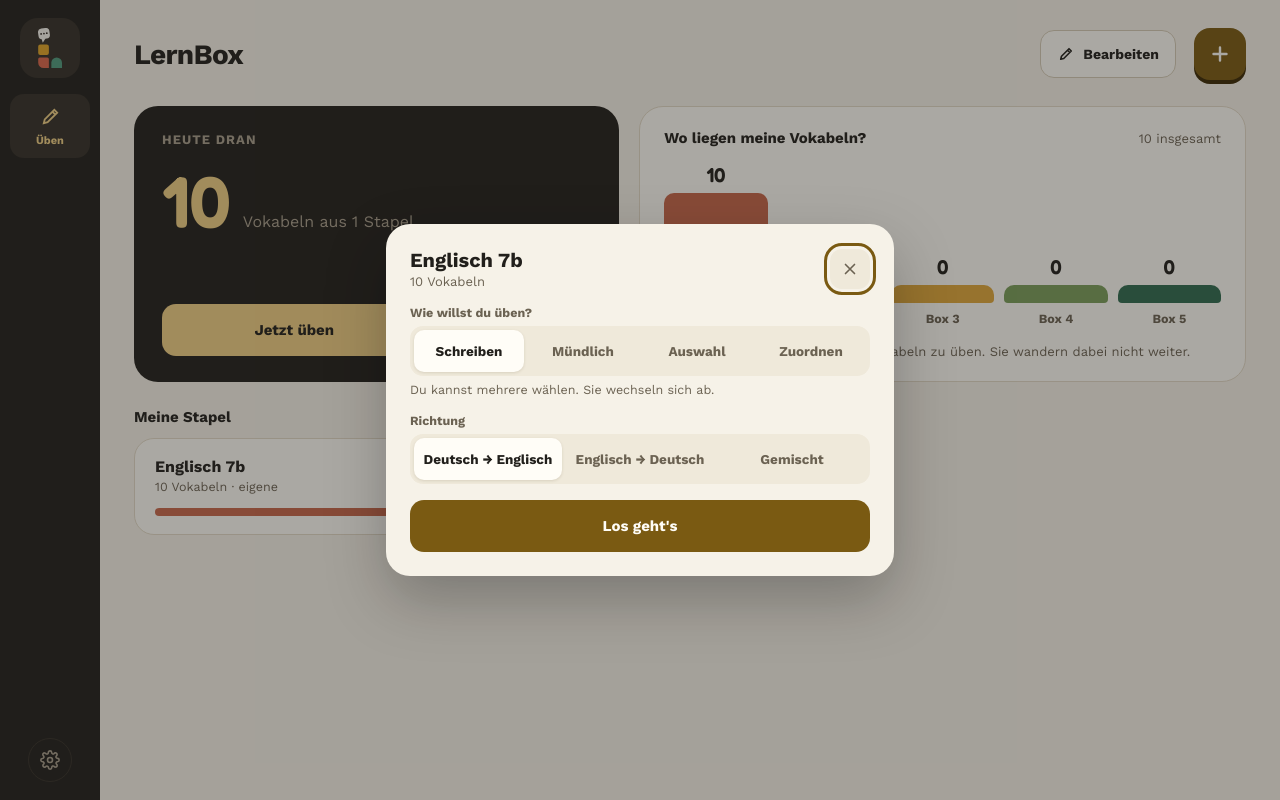
Test case: LernBox: Runde fortsetzen (C-001) › verwirft den Zwischenstand bei „Neu anfangen“
Later steps or results of the test are not shown.
Click the button "Mündlich": [583, 351] box [528,330,638,372]
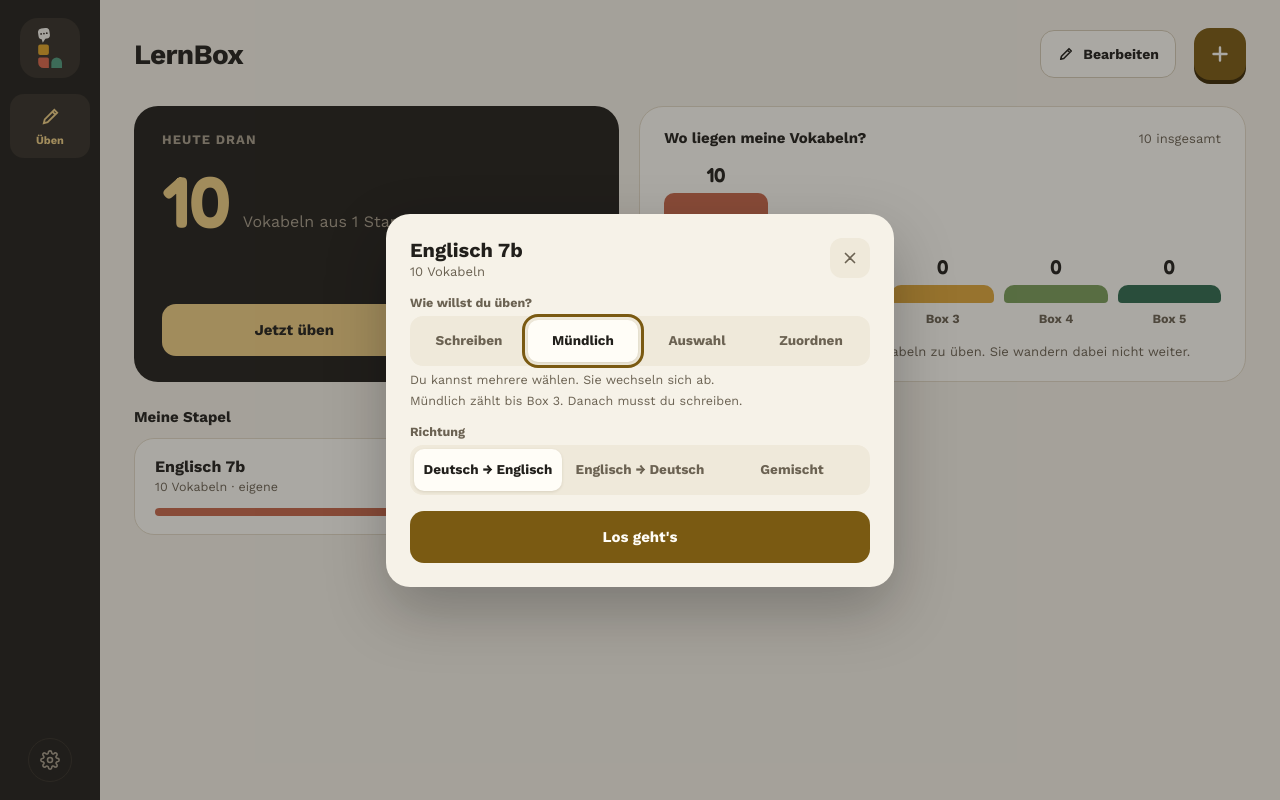
Click the button "Los geht's": [640, 536] box [410,510,870,562]
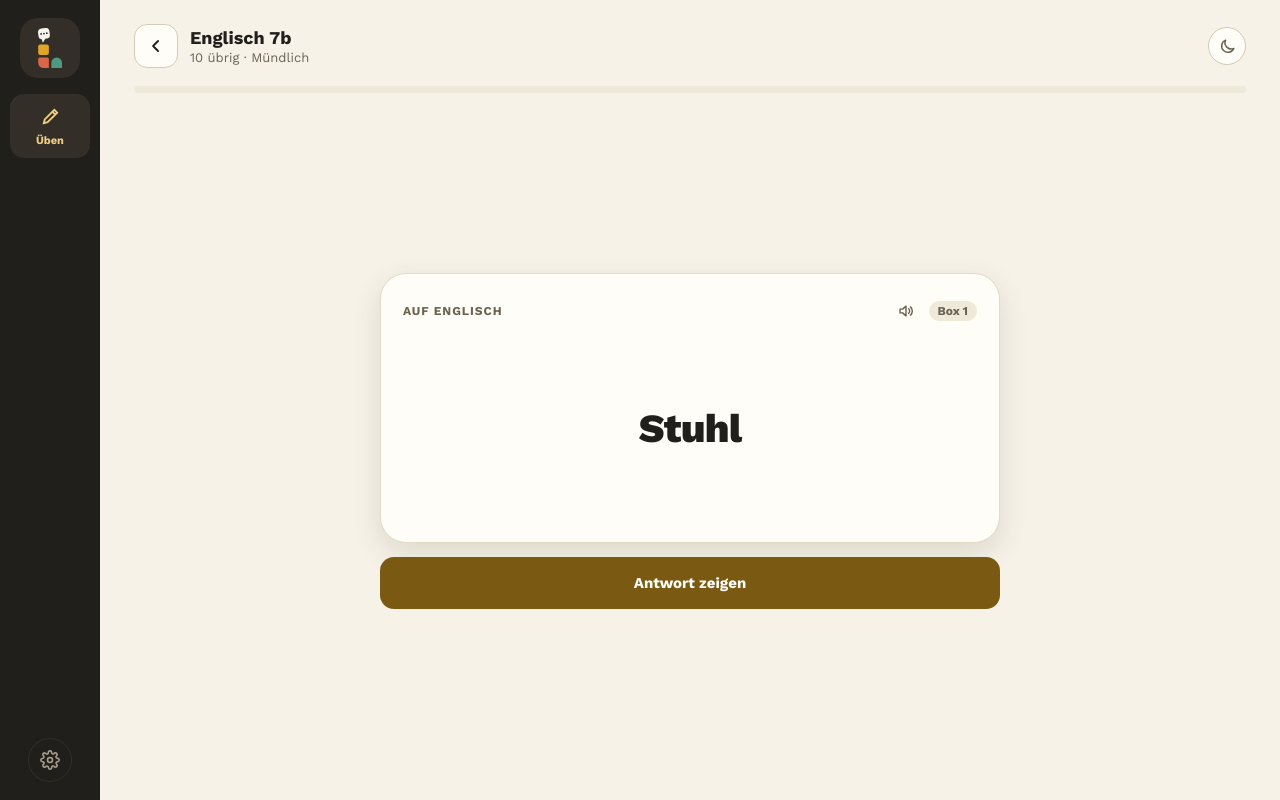
Click the button "Antwort zeigen": [690, 582] box [380,556,1000,608]
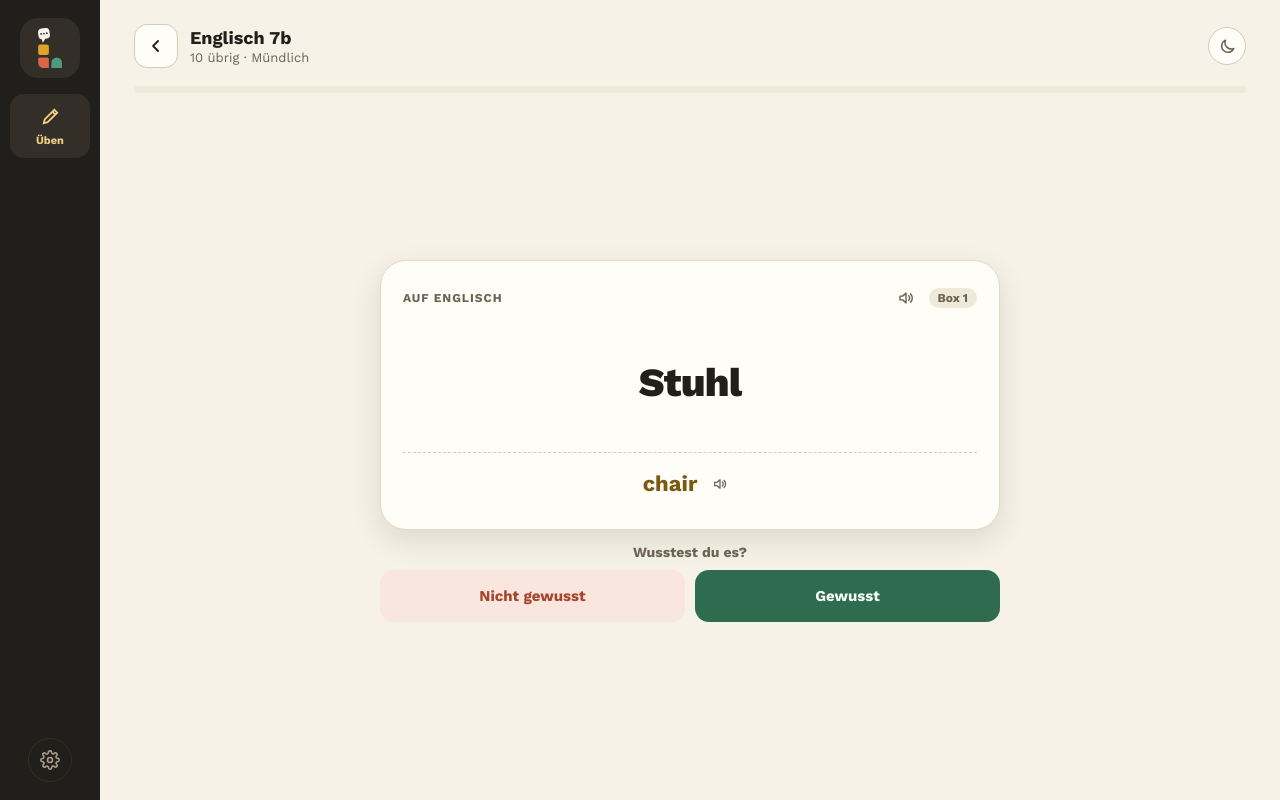
Click the button "Gewusst": [848, 596] box [695,570,1000,622]
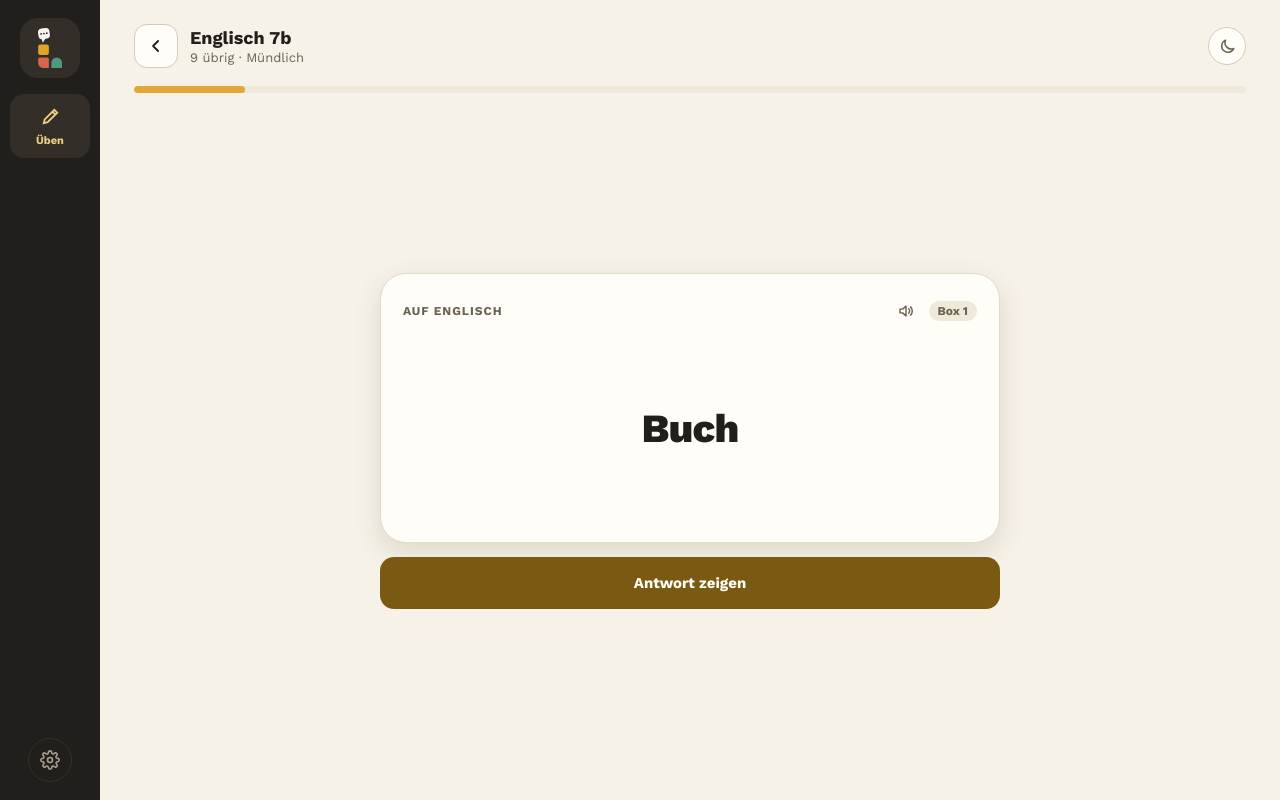
Now the heading "Stuhl" no longer shows "Stuhl"
Click the button "Antwort zeigen": [690, 582] box [380,556,1000,608]
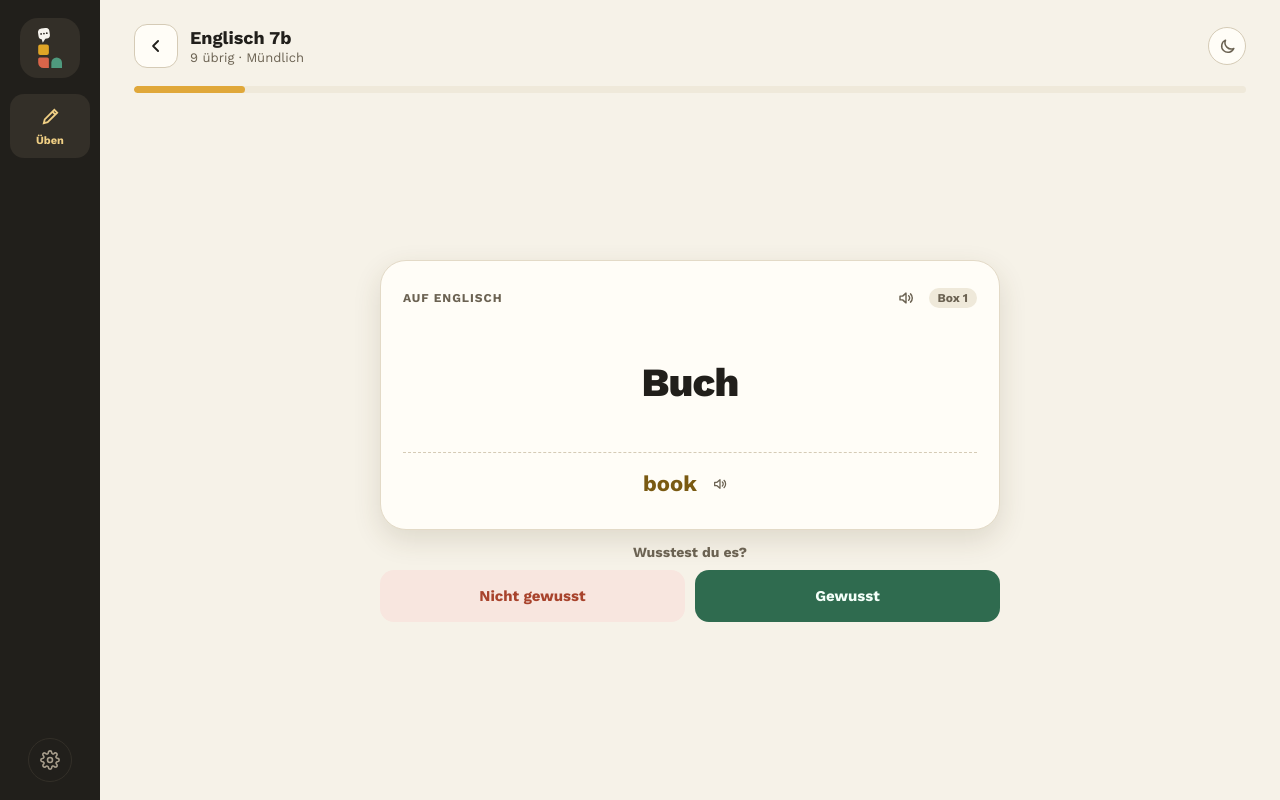
Click the button "Gewusst": [848, 596] box [695,570,1000,622]
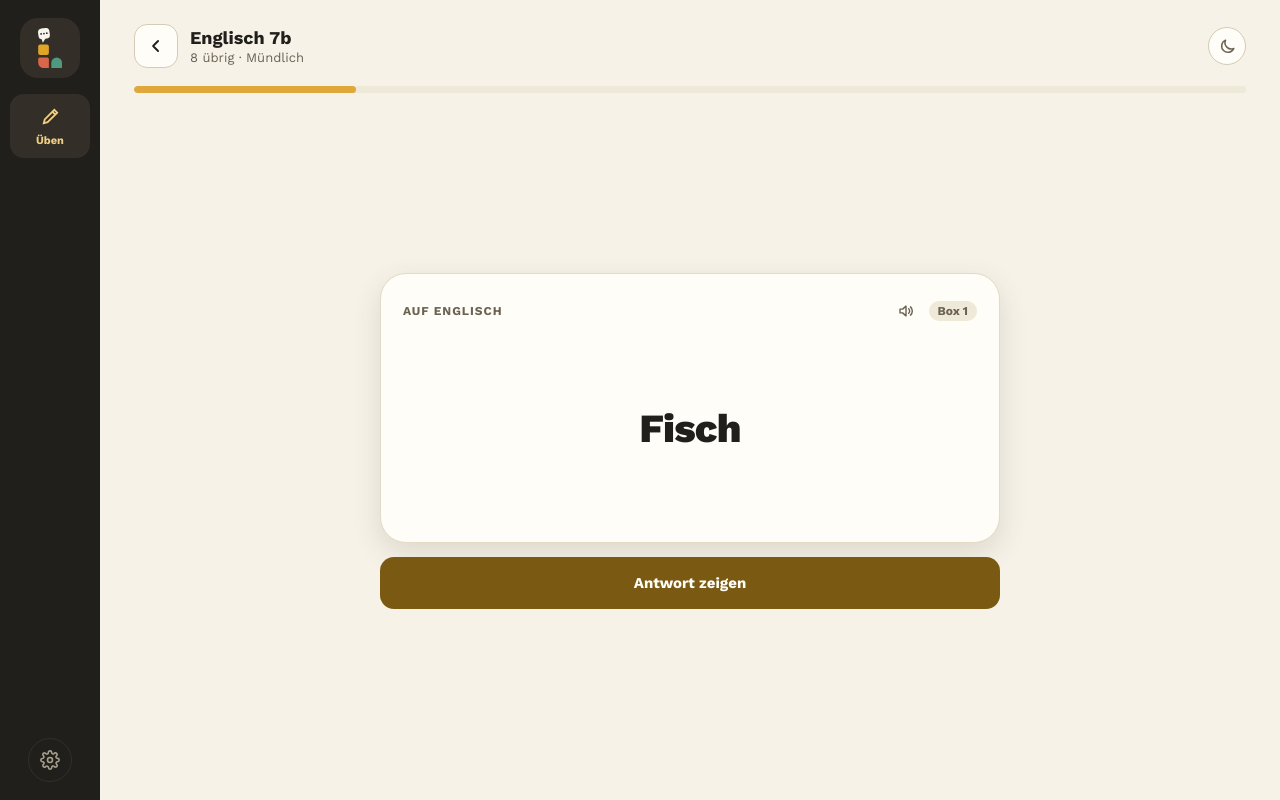
Now the heading "Buch" no longer shows "Buch"
